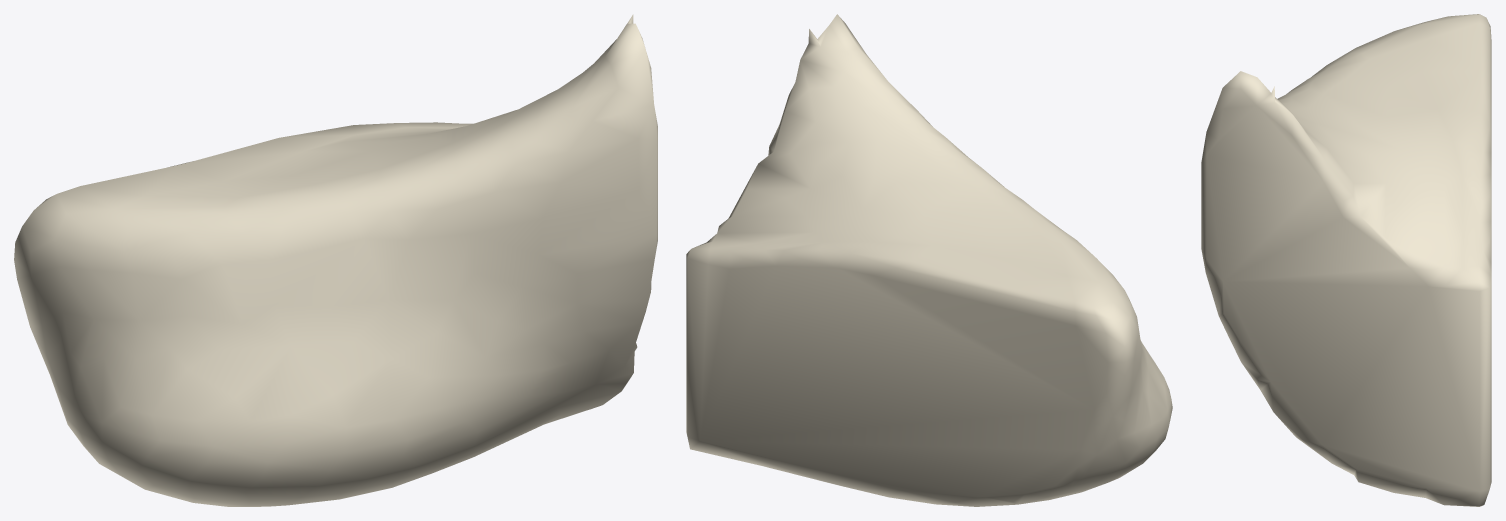
File: premaxilla_l.glb
3 views of the same model, side by side, from view 1: azimuth 30°, elevation 25°; view 2: azimuth 150°, elevation 25°; view 3: azimuth 270°, elevation 25° (orthographic). The views are drawn at different scales.
Parts seen in each view (by area): view 1: geometry_0; view 2: geometry_0; view 3: geometry_0.
Part boxes in pixels (x1,y1,x2,y2): geometry_0: [14, 14, 657, 506]; geometry_0: [686, 14, 1172, 506]; geometry_0: [1201, 14, 1491, 506].
Bounding box in the file's own units: 0.1341 × 0.108 × 0.068.
